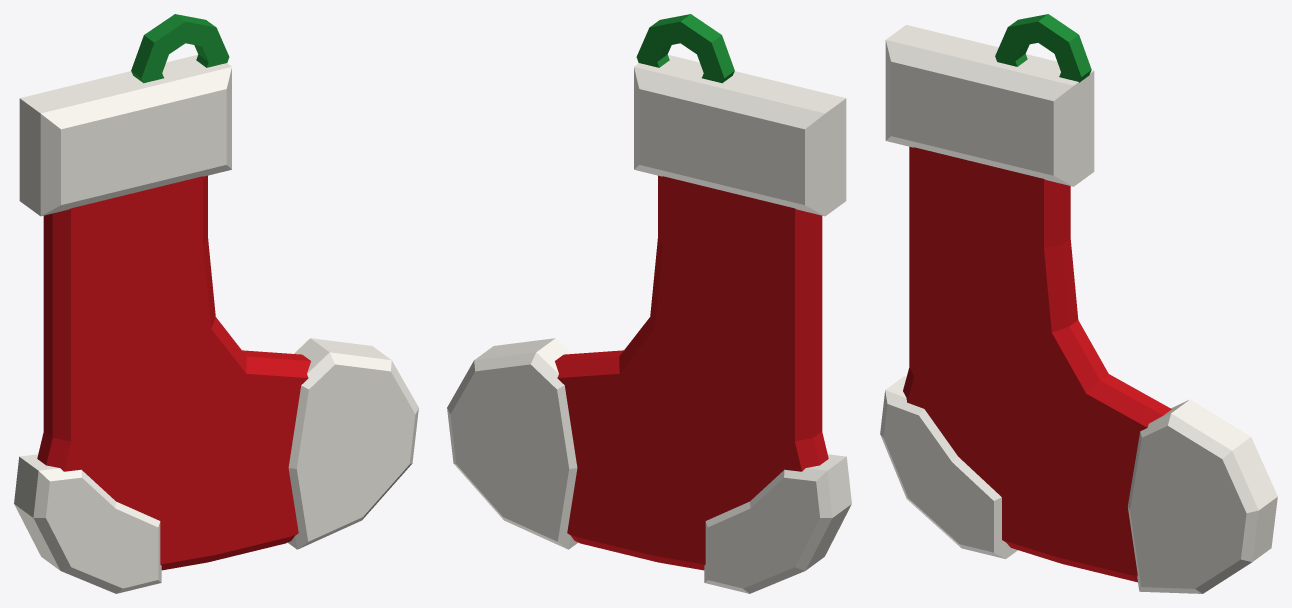
The model's file is meia_natal 1.fbx.
3 renders of one model, left to right at view 1: azimuth 30°, elevation 25°; view 2: azimuth 150°, elevation 25°; view 3: azimuth 330°, elevation 25°, orthographic.
Visible parts, largest first — view 1: MeiaNatal; view 2: MeiaNatal; view 3: MeiaNatal.
Boxes of the visible parts, x1,y1,x2,y2 form: MeiaNatal: [14, 14, 418, 593]; MeiaNatal: [447, 14, 851, 593]; MeiaNatal: [880, 14, 1277, 593].
Bounding box in the file's own units: 23.84 × 32.56 × 3.84.
